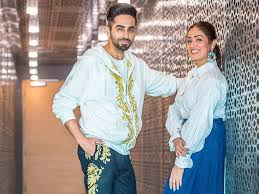Bad: (52, 3, 226, 193)
